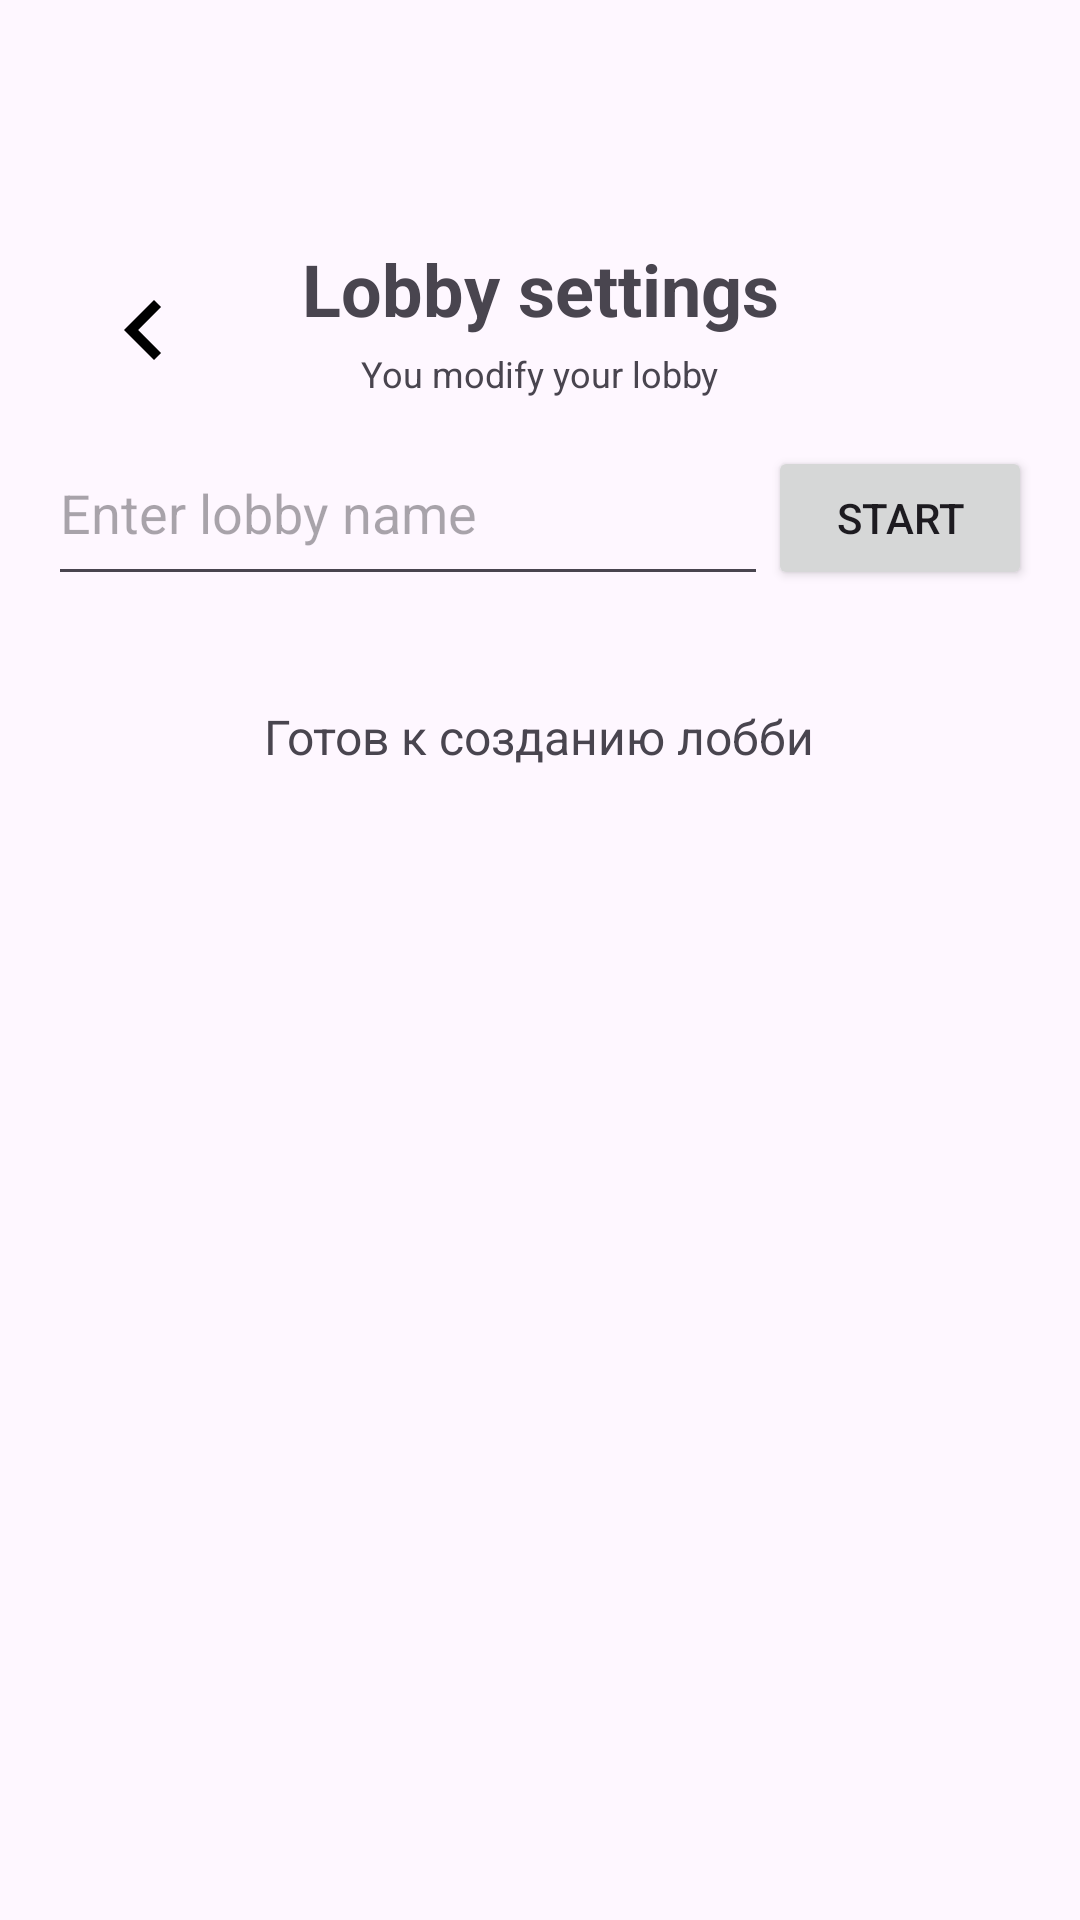

Named icons in this screenshot (1080w x 1920h) and their bounding boxes, (x1, y1, x2, y2):
back: (124, 300, 161, 360)
